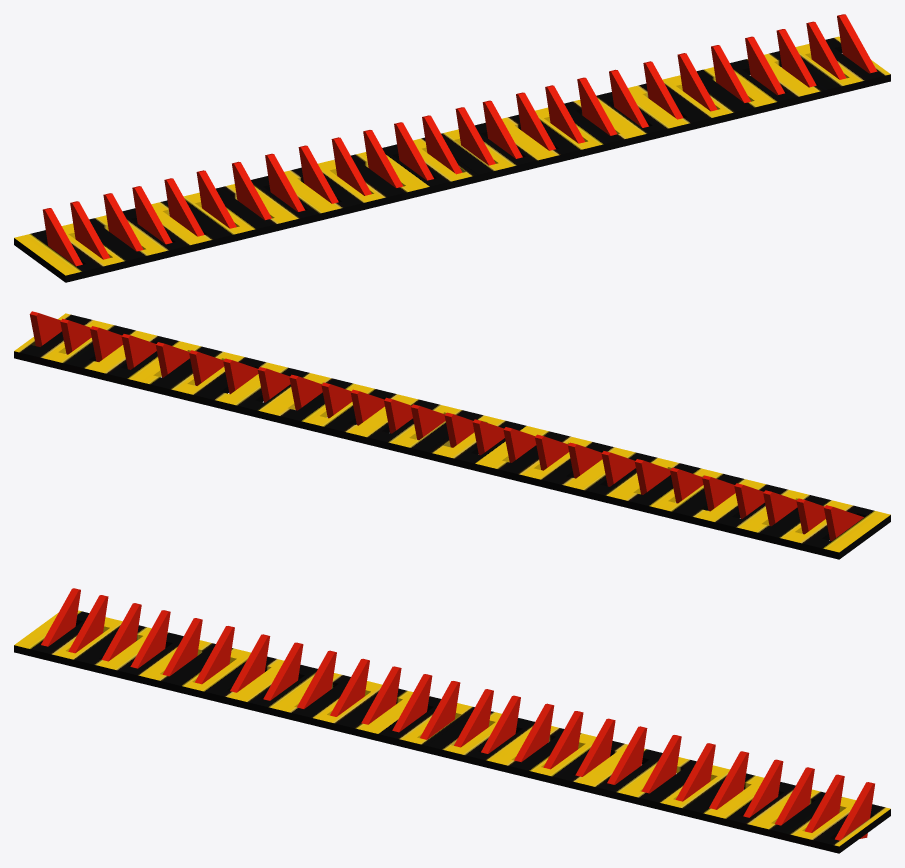
Rendered from TrafficSpikes.fbx.
3 views of the same model, one above another, from view 1: azimuth 30°, elevation 25°; view 2: azimuth 150°, elevation 25°; view 3: azimuth 330°, elevation 25° (orthographic).
Visible parts, largest first — view 1: Cube.002, Cube.025; view 2: Cube.002, Cube.025; view 3: Cube.002, Cube.025.
Boxes of the visible parts, x1,y1,x2,y2 form: Cube.002: (14, 36, 890, 282); Cube.025: (42, 14, 877, 266); Cube.002: (14, 313, 890, 559); Cube.025: (29, 311, 863, 540); Cube.002: (14, 610, 890, 853); Cube.025: (41, 588, 874, 840).
Size of the model in its own units: 1641 by 93.81 by 178.
Materials: 2 (1 with a texture image).
